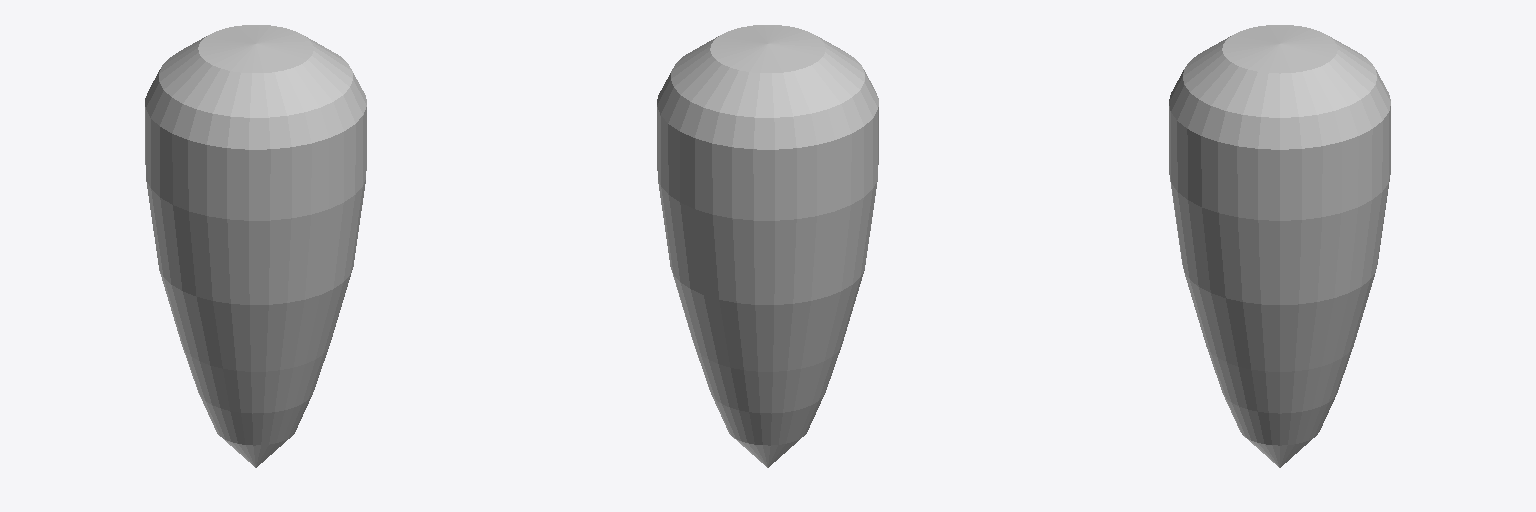
File: npc_spirit_body.obj
The picture shows the model from 3 angles: view 1: azimuth 30°, elevation 25°; view 2: azimuth 150°, elevation 25°; view 3: azimuth 270°, elevation 25°; orthographic projection.
Visible parts, largest first — view 1: Cylinder; view 2: Cylinder; view 3: Cylinder.
Boxes of the visible parts, x1,y1,x2,y2 form: Cylinder: [145, 25, 366, 467]; Cylinder: [657, 25, 878, 467]; Cylinder: [1169, 25, 1390, 467].
Bounding box in the file's own units: 0.5738 × 1.21 × 0.5738.